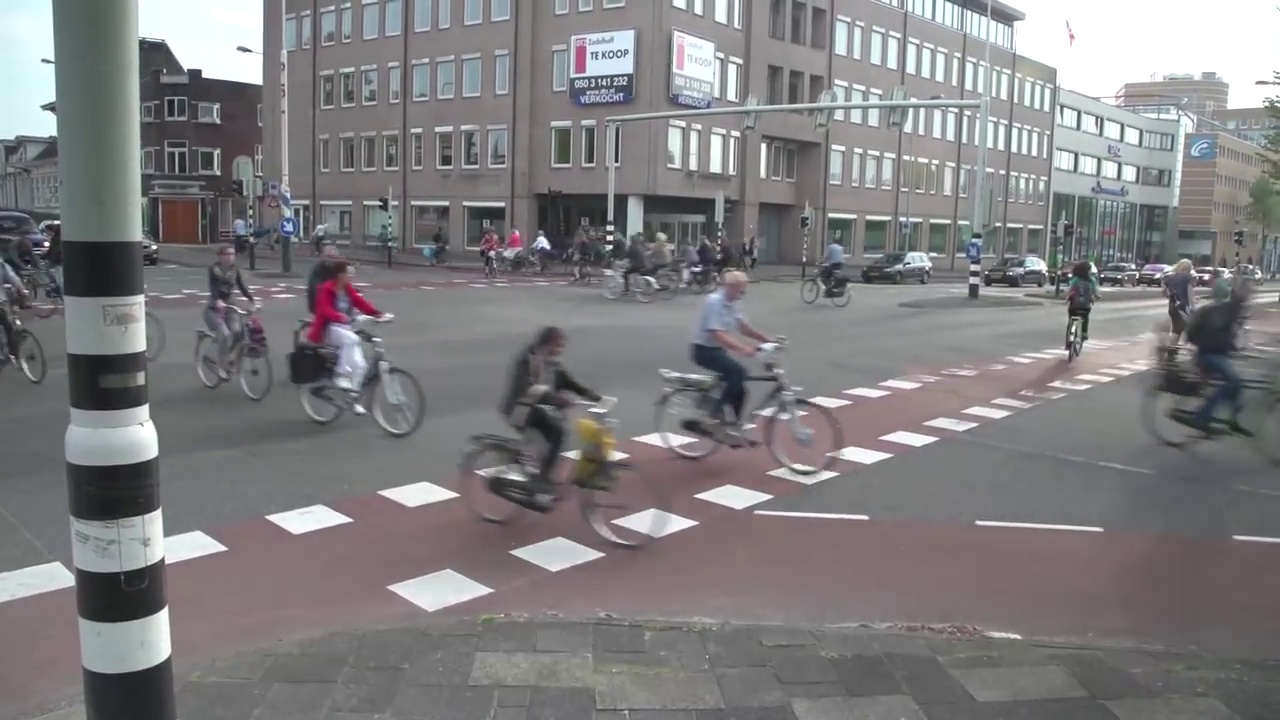cyclist_back: (1057, 253, 1098, 368)
cyclist_side: (456, 330, 675, 551), (650, 262, 851, 480), (288, 255, 432, 438), (189, 247, 281, 397), (803, 230, 856, 305), (604, 235, 660, 304)
